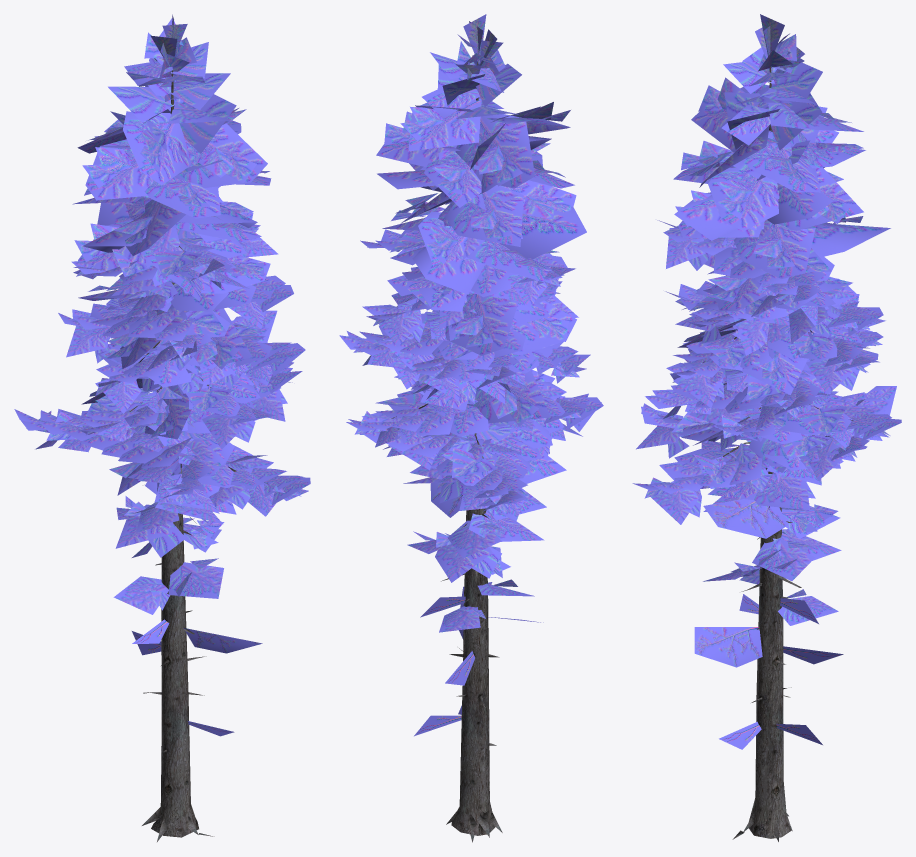
File: Fir_05_Standalone_cheap.fbx
The picture shows the model from 3 angles, left to right: view 1: azimuth 30°, elevation 25°; view 2: azimuth 150°, elevation 25°; view 3: azimuth 270°, elevation 25°; orthographic projection.
Visible parts, largest first — view 1: Fir_05_Small_Trial_LOD0; view 2: Fir_05_Small_Trial_LOD0; view 3: Fir_05_Small_Trial_LOD0.
Part boxes in pixels (x1=…): Fir_05_Small_Trial_LOD0: x1=14, y1=14, x2=310, y2=841; Fir_05_Small_Trial_LOD0: x1=339, y1=14, x2=603, y2=842; Fir_05_Small_Trial_LOD0: x1=632, y1=14, x2=901, y2=841.
Size of what is drawn, in the model's own units: 530 by 1818 by 543.
